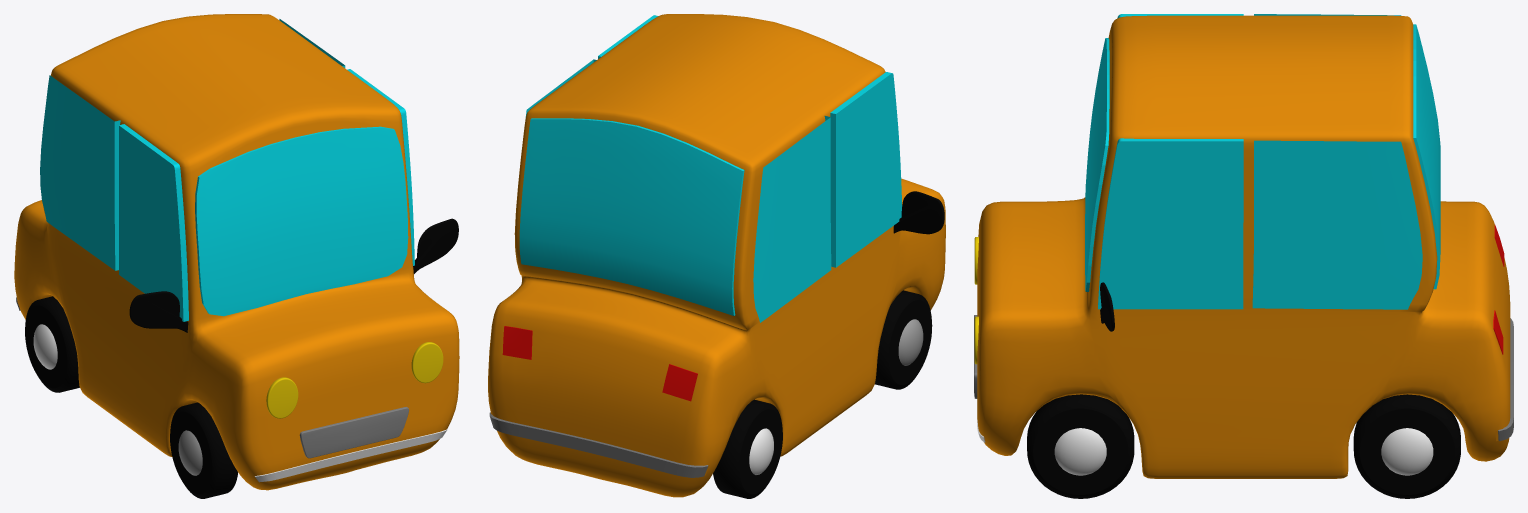
File: car_stack.fbx
3 renders of one model, left to right at view 1: azimuth 30°, elevation 25°; view 2: azimuth 150°, elevation 25°; view 3: azimuth 270°, elevation 25°, orthographic. The views are drawn at different scales.
Visible parts, largest first — view 1: Box001, Dummy001, Cylinder001, Cylinder007, Line003, Line004, Cylinder005, Cylinder006, Sphere002, Sphere001; view 2: Box001, Dummy001, Cylinder007, Cylinder001, Line003, Sphere001, Sphere002; view 3: Box001, Dummy001, Cylinder008, Cylinder009, Sphere003, Sphere004.
Boxes of the visible parts, box(x1,y1,x2,y2) form: Box001: box(14, 14, 459, 490); Dummy001: box(16, 19, 447, 482); Cylinder001: box(170, 402, 237, 498); Cylinder007: box(25, 296, 79, 392); Line003: box(129, 291, 188, 332); Line004: box(413, 218, 458, 273); Cylinder005: box(266, 377, 298, 418); Cylinder006: box(411, 342, 443, 383); Sphere002: box(33, 324, 57, 369); Sphere001: box(178, 430, 202, 475); Box001: box(488, 14, 945, 497); Dummy001: box(489, 15, 902, 477); Cylinder007: box(713, 399, 782, 498); Cylinder001: box(875, 290, 932, 389); Line003: box(893, 191, 944, 234); Sphere001: box(898, 319, 923, 365); Sphere002: box(749, 428, 773, 474); Box001: box(977, 15, 1510, 478); Dummy001: box(974, 14, 1513, 442); Cylinder008: box(1027, 394, 1134, 498); Cylinder009: box(1353, 394, 1460, 498); Sphere003: box(1054, 428, 1106, 475); Sphere004: box(1381, 428, 1433, 475).
Size of the model in its own units: 7437 by 7375 by 9396.
